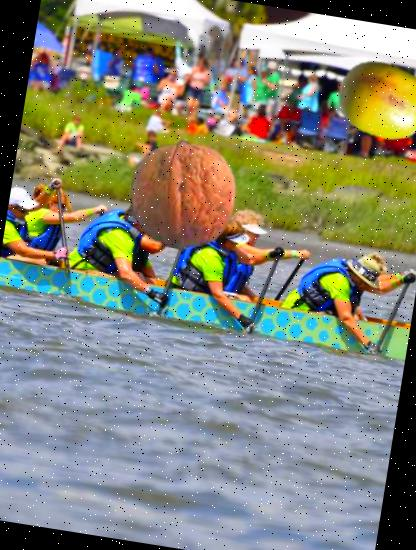Pomelo: (330, 47, 416, 155)
Walnut: (122, 132, 246, 257)
